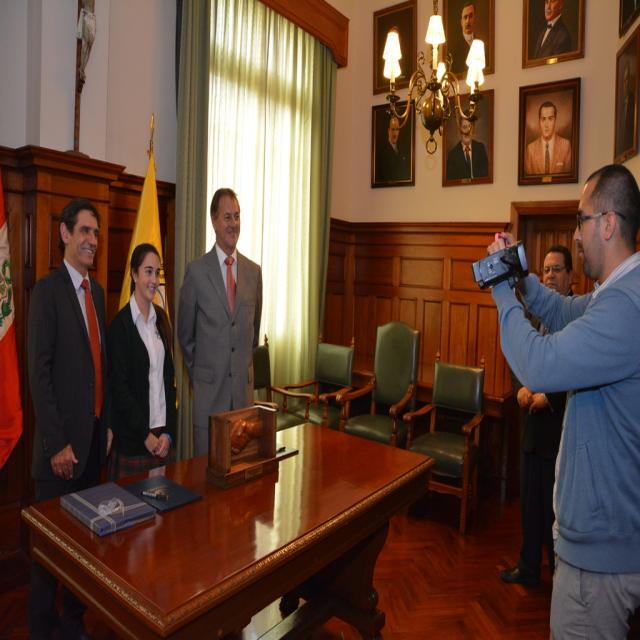chair: (403, 359, 486, 534), (338, 320, 420, 447), (278, 341, 355, 425), (253, 343, 316, 416)
desk: (30, 411, 452, 638)
person: (491, 163, 639, 631), (28, 195, 106, 510), (176, 187, 263, 458), (106, 242, 178, 480)
